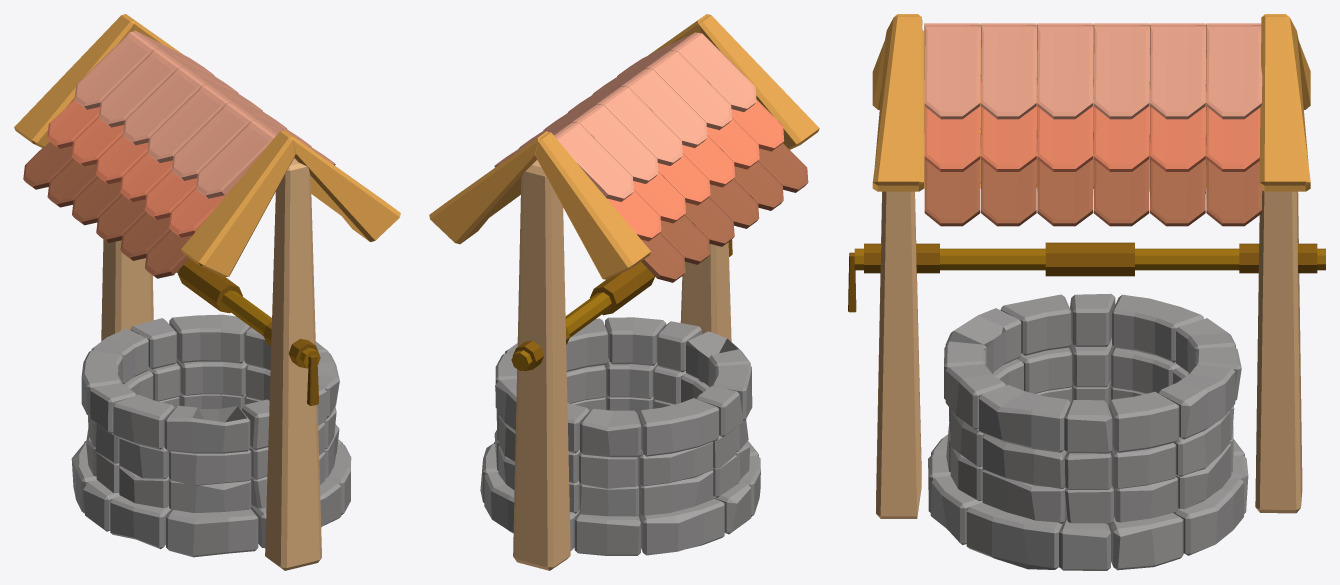
File: Charlton_Well.glb
The picture shows the model from 3 angles, left to right: view 1: azimuth 30°, elevation 25°; view 2: azimuth 150°, elevation 25°; view 3: azimuth 270°, elevation 25°; orthographic projection. The views are drawn at different scales.
Visible parts, largest first — view 1: Cube, Cube.005, Cube.011, Cube.007, Cube.012, Cube.013, Cube.006, Cube.008, Cylinder; view 2: Cube, Cube.005, Cube.011, Cube.007, Cube.012, Cube.013, Cube.008, Cube.006, Cylinder; view 3: Cube, Cube.008, Cube.005, Cube.010, Cube.009, Cube.007, Cube.006, Cylinder, Cube.011.
Part boxes in pixels (left/top/right/bottom): Cube: left=71, top=314, right=351, bottom=557; Cube.005: left=101, top=158, right=321, bottom=570; Cube.011: left=74, top=31, right=275, bottom=198; Cube.007: left=14, top=14, right=400, bottom=277; Cube.012: left=47, top=99, right=236, bottom=237; Cube.013: left=23, top=142, right=192, bottom=278; Cube.006: left=178, top=258, right=318, bottom=405; Cube.008: left=133, top=30, right=335, bottom=165; Cylinder: left=176, top=269, right=320, bottom=367; Cube: left=480, top=317, right=760, bottom=555; Cube.005: left=513, top=160, right=731, bottom=570; Cube.011: left=555, top=33, right=756, bottom=201; Cube.007: left=429, top=14, right=819, bottom=279; Cube.012: left=607, top=99, right=784, bottom=241; Cube.013: left=641, top=143, right=808, bottom=282; Cube.008: left=494, top=32, right=698, bottom=167; Cube.006: left=513, top=240, right=732, bottom=371; Cylinder: left=511, top=292, right=611, bottom=370; Cube: left=928, top=293, right=1248, bottom=570; Cube.008: left=924, top=25, right=1262, bottom=119; Cube.005: left=876, top=44, right=1302, bottom=518; Cube.010: left=924, top=133, right=1262, bottom=226; Cube.009: left=924, top=79, right=1260, bottom=171; Cube.007: left=872, top=14, right=1310, bottom=191; Cube.006: left=848, top=242, right=1317, bottom=312; Cylinder: left=854, top=248, right=1325, bottom=270; Cube.011: left=924, top=23, right=1261, bottom=30.
Size of the model in its own units: 14.17 by 23.74 by 20.87.
